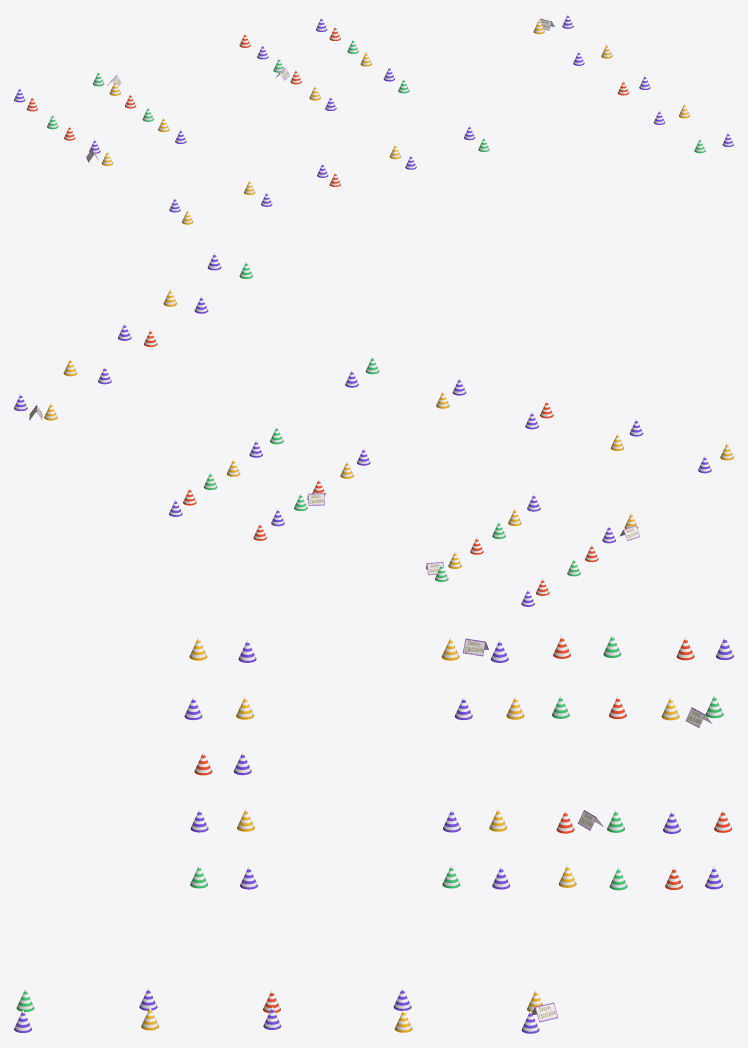
The model's file is Birthday.fbx.
3 views of the same model, one above another, from view 1: azimuth 30°, elevation 25°; view 2: azimuth 150°, elevation 25°; view 3: azimuth 270°, elevation 25° (orthographic). The views are drawn at different scales.
Bounding box in the file's own units: 835 × 19.41 × 656.
